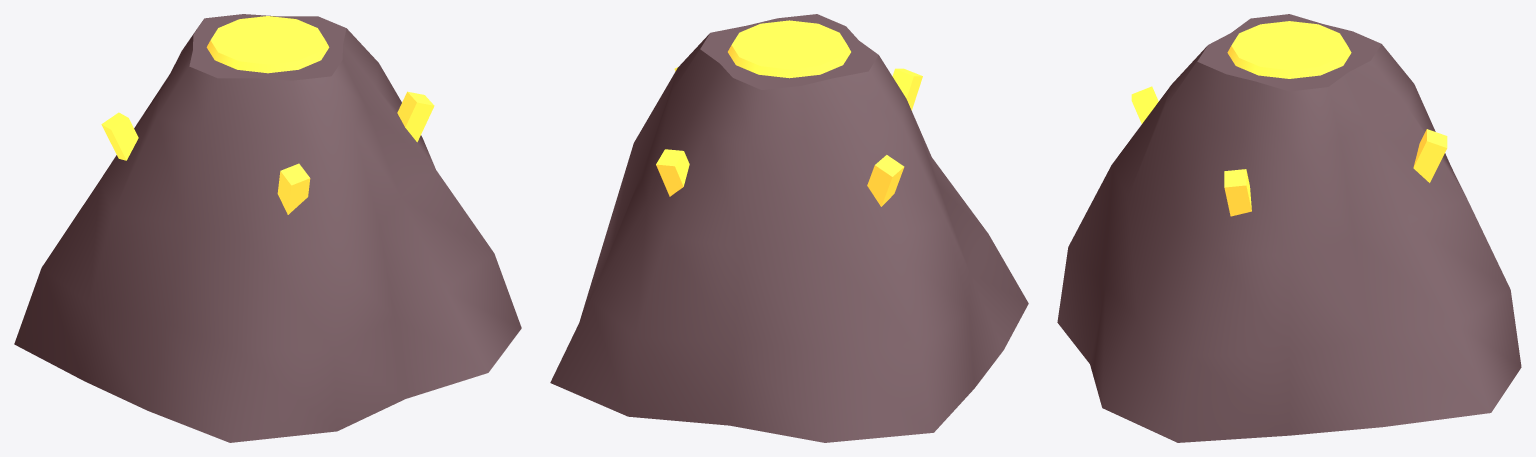
File: prop_lava_vent.glb
The picture shows the model from 3 angles, left to right: view 1: azimuth 30°, elevation 25°; view 2: azimuth 150°, elevation 25°; view 3: azimuth 270°, elevation 25°; orthographic projection.
Parts seen in each view (by area): view 1: PropLavaVent; view 2: PropLavaVent; view 3: PropLavaVent.
Part boxes in pixels (x1,y1,x2,y2): PropLavaVent: (14,14,521,442); PropLavaVent: (550,14,1028,442); PropLavaVent: (1057,14,1521,442).
Size of the model in its own units: 0.8774 by 0.625 by 0.8781.
